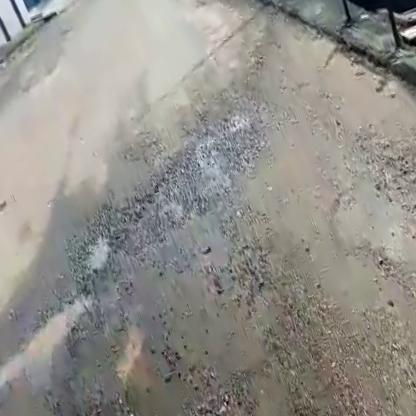pothole: (71, 221, 128, 283)
